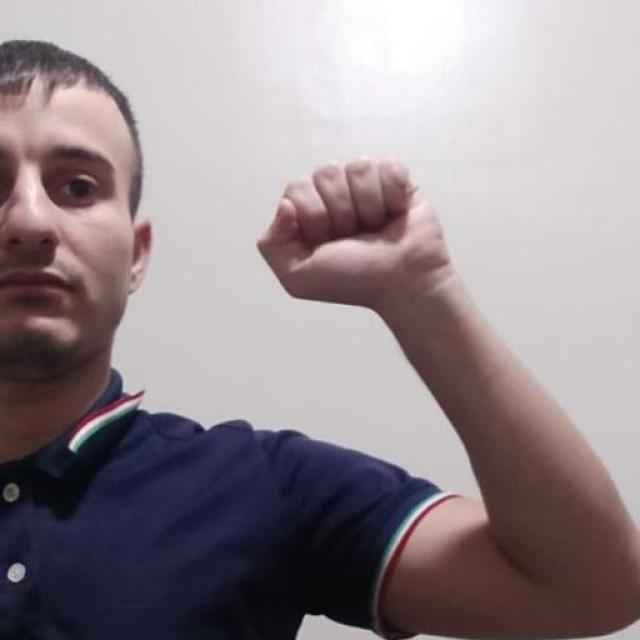hand: (255, 155, 457, 313)
